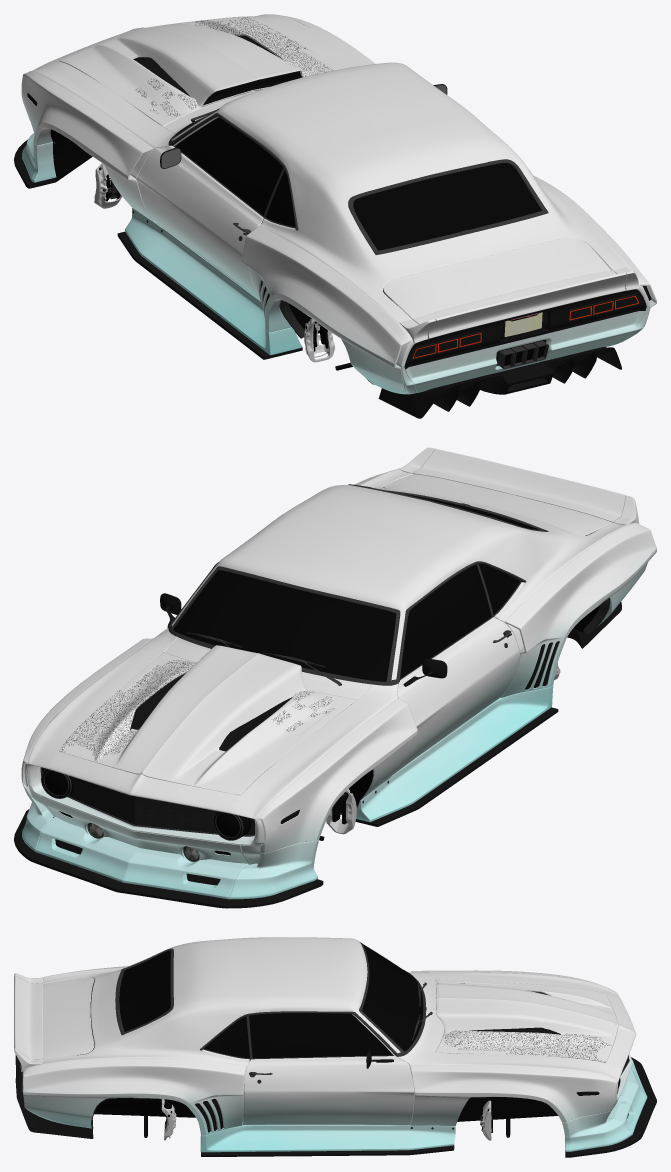
The model's file is rrvigeroclassic.glb.
The picture shows the model from 3 angles, top to bottom: view 1: azimuth 30°, elevation 25°; view 2: azimuth 150°, elevation 25°; view 3: azimuth 270°, elevation 25°; orthographic projection. The views are drawn at different scales.
Parts seen in each view (by area): view 1: skel; view 2: skel; view 3: skel.
Part boxes in pixels (x1,y1,x2,y2): skel: (14,14,656,418); skel: (14,447,656,908); skel: (14,937,656,1157).
Size of the model in its own units: 2 by 1.16 by 4.87.
Materials: 45 (44 with a texture image).
